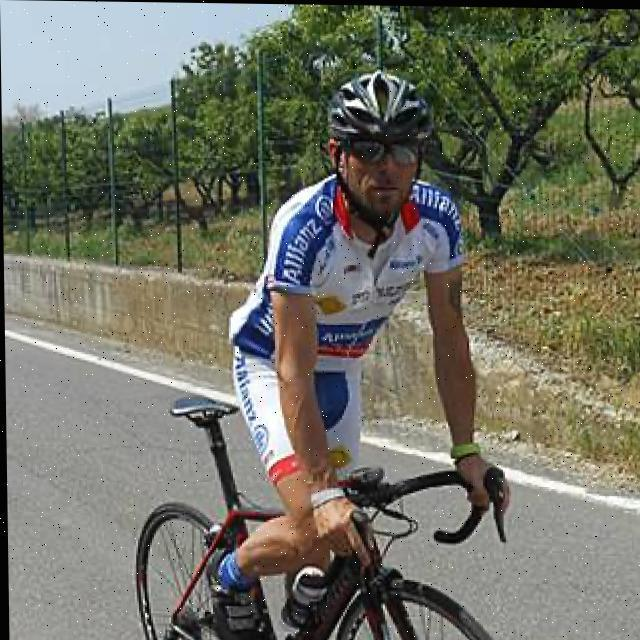Helmet: (312, 62, 444, 235)
